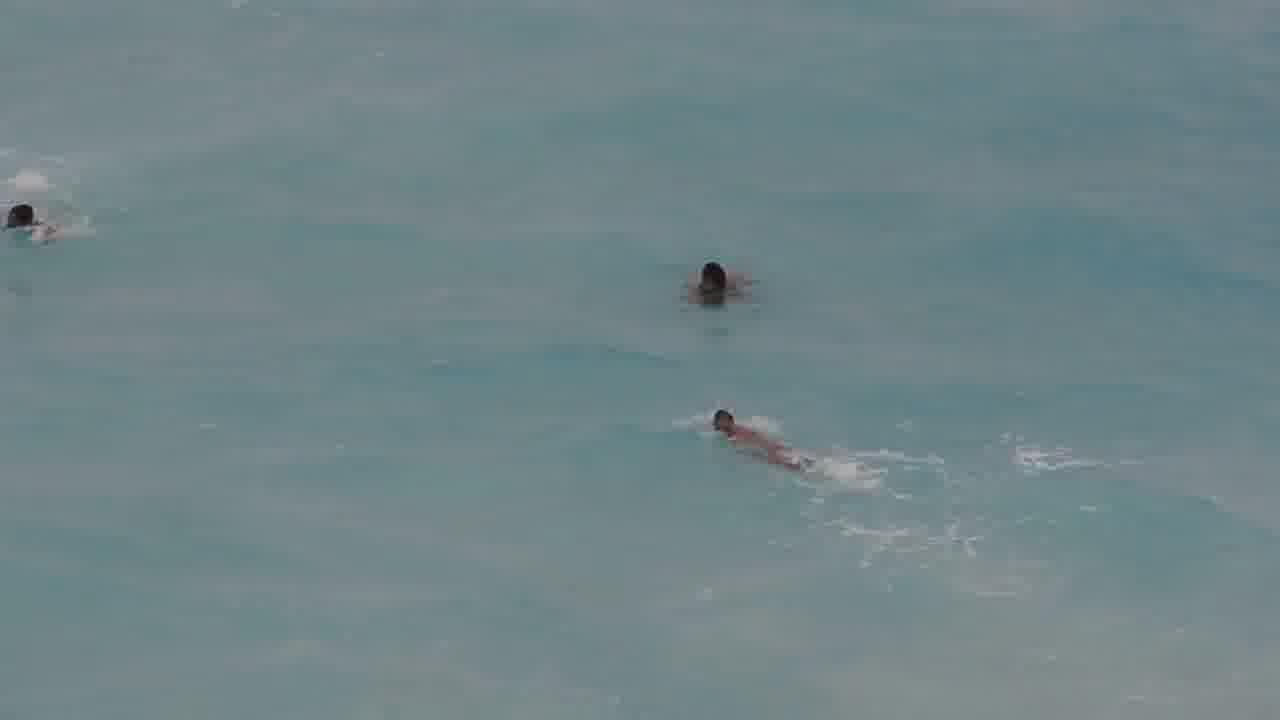human: (701, 401, 842, 467), (0, 191, 74, 244), (678, 255, 754, 301)
